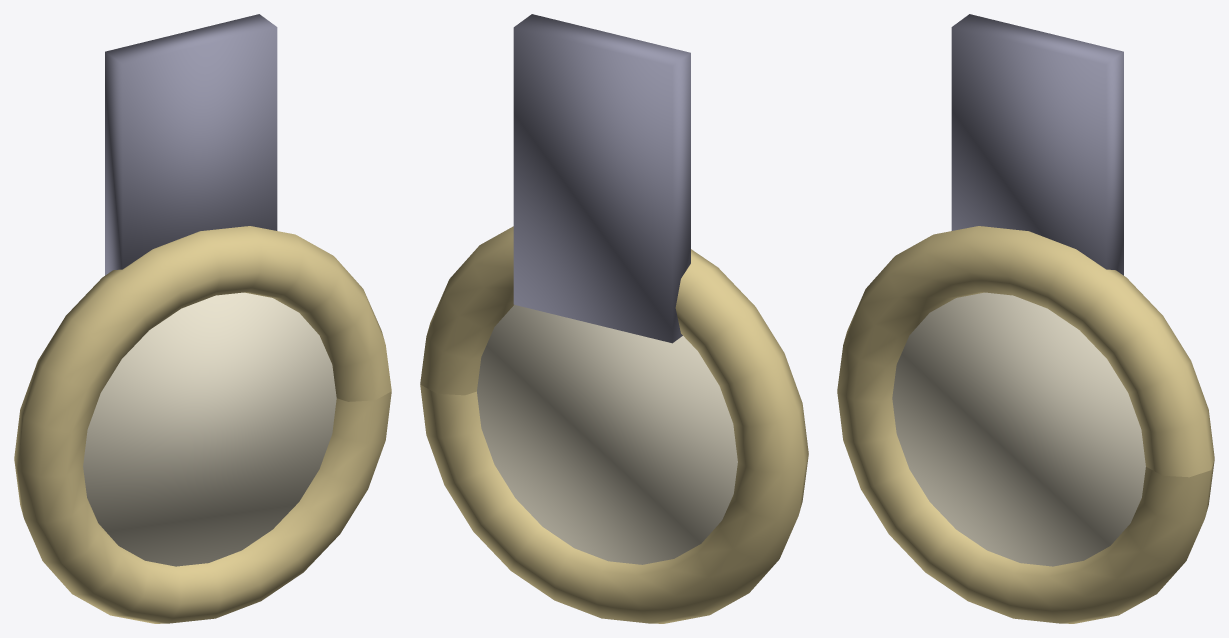
File: colonia.glb
3 views of the same model, side by side, from view 1: azimuth 30°, elevation 25°; view 2: azimuth 150°, elevation 25°; view 3: azimuth 330°, elevation 25° (orthographic). The views are drawn at different scales.
Parts seen in each view (by area): view 1: colonia; view 2: colonia; view 3: colonia.
Part boxes in pixels (<box>): colonia: <box>14,14,391,623</box>; colonia: <box>420,14,808,623</box>; colonia: <box>837,14,1214,623</box>.
Size of the model in its own units: 0.072 by 0.106 by 0.013.
